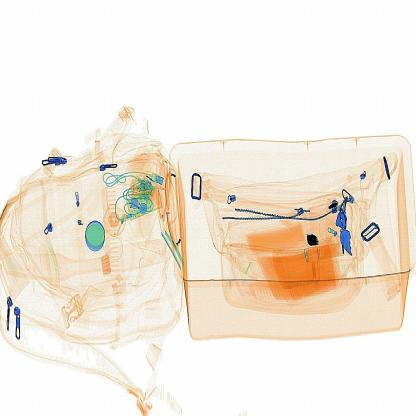scissors: (302, 226, 330, 255)
